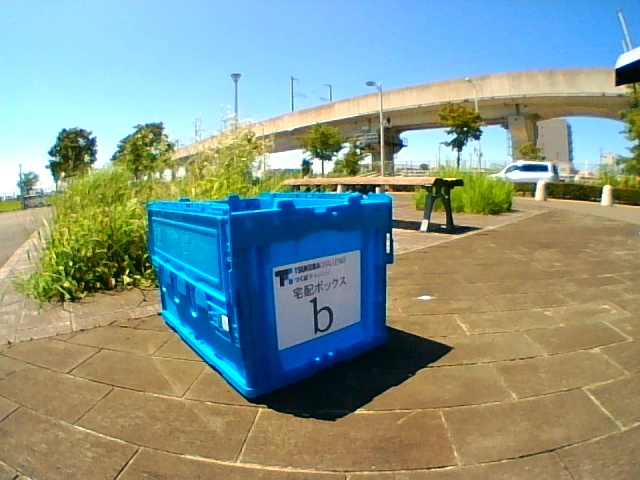blue_box: (154, 198, 382, 348)
tag_b: (279, 269, 344, 332)
